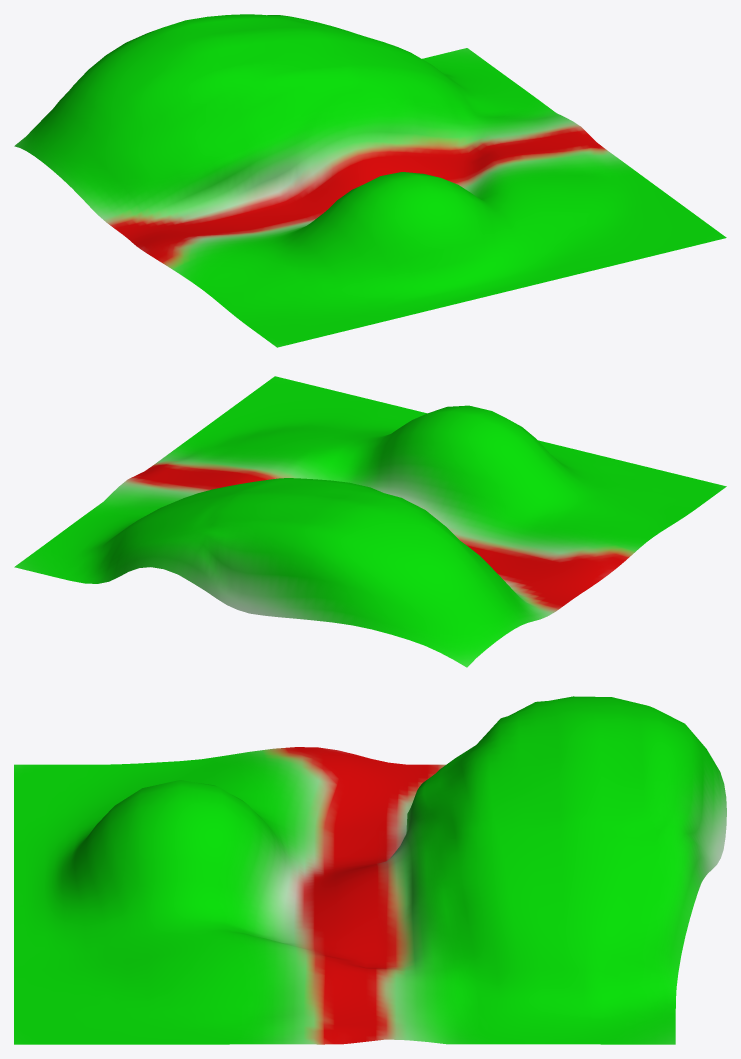
File: SwampyDimpyPlane.Colorsfbx.fbx
The picture shows the model from 3 angles, top to bottom: view 1: azimuth 30°, elevation 25°; view 2: azimuth 150°, elevation 25°; view 3: azimuth 270°, elevation 25°; orthographic projection. The views are drawn at different scales.
Visible parts, largest first — view 1: SwampHills; view 2: SwampHills; view 3: SwampHills.
Boxes of the visible parts, x1,y1,x2,y2 form: SwampHills: (14,14,726,347); SwampHills: (14,376,726,667); SwampHills: (14,696,726,1044).
Bounding box in the file's own units: 1023 × 226 × 1077.
